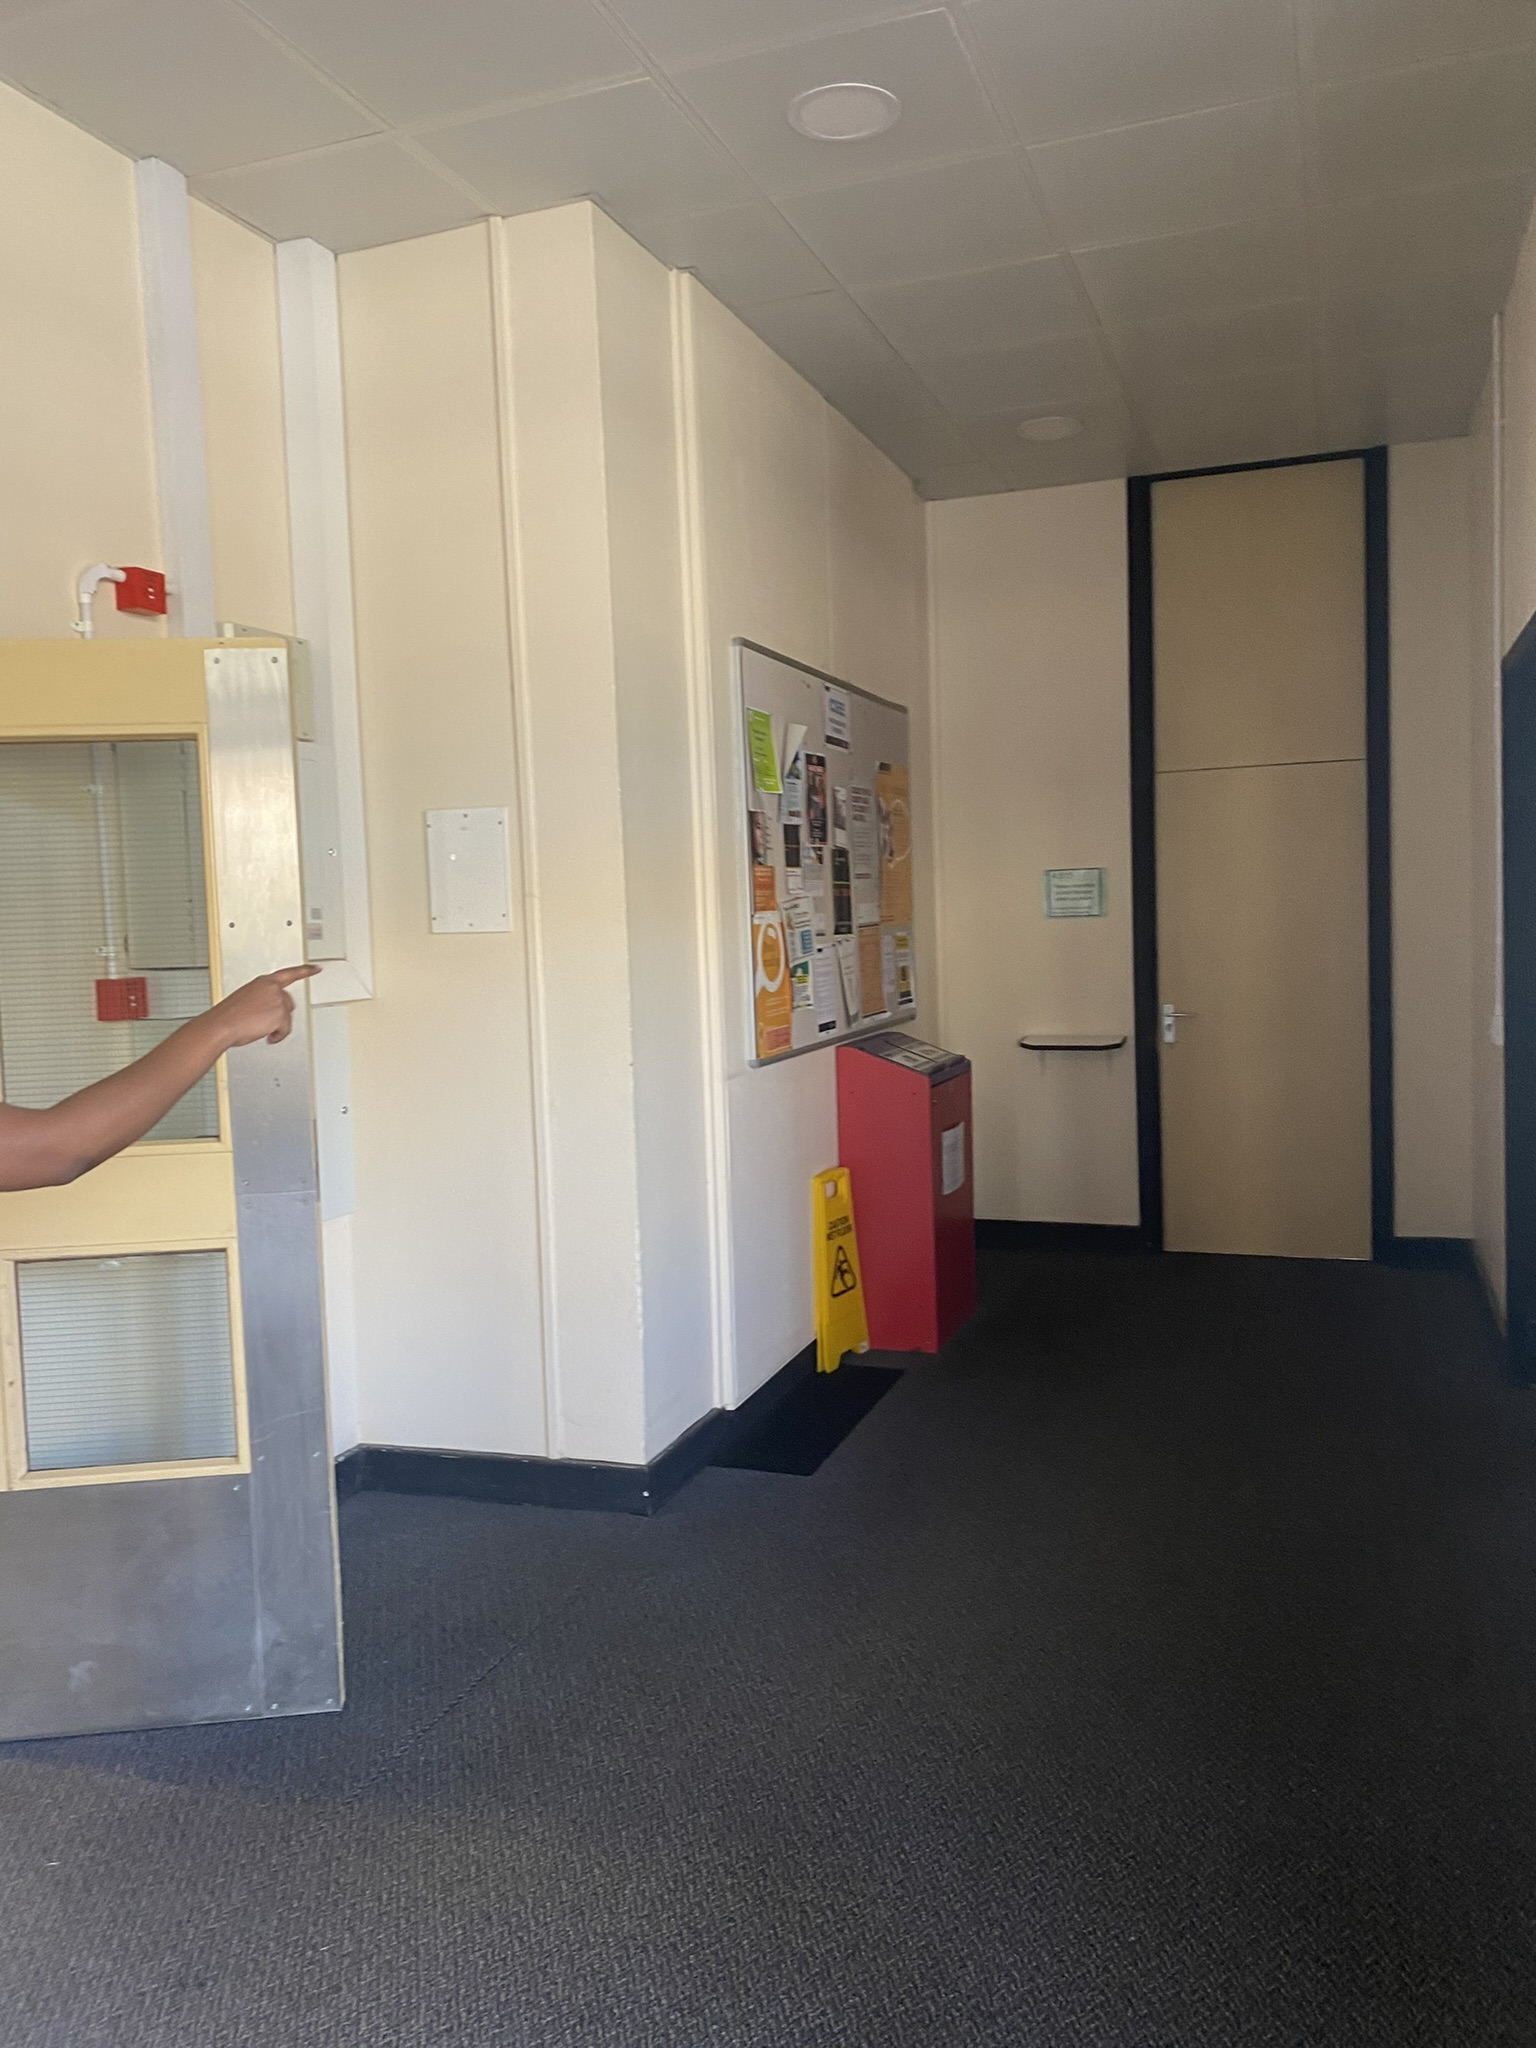door: (11, 626, 419, 1817), (1105, 481, 1423, 1345)
